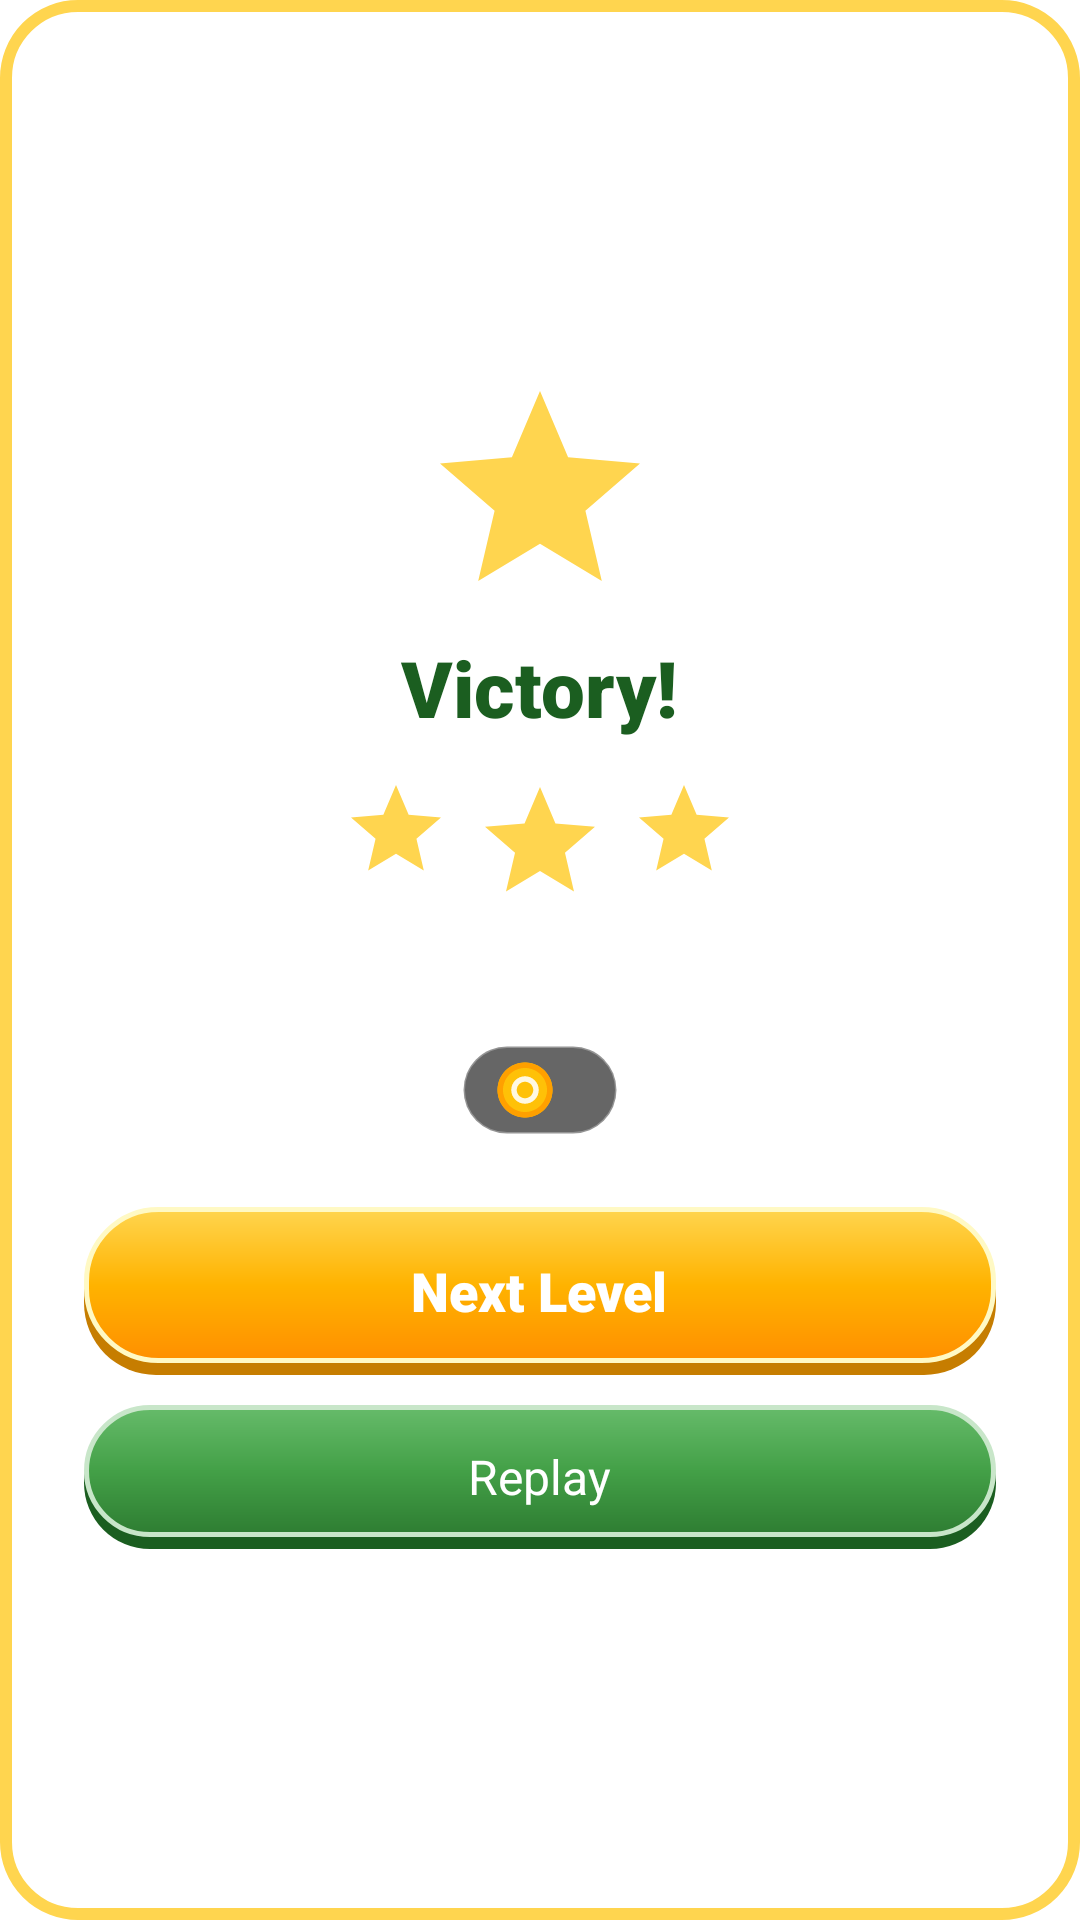

Named icons in this screenshot (1080x1920) and their centers, (x,y):
coin: (525,1090)
star: (540,486), (396,828), (684,828), (540,839)
